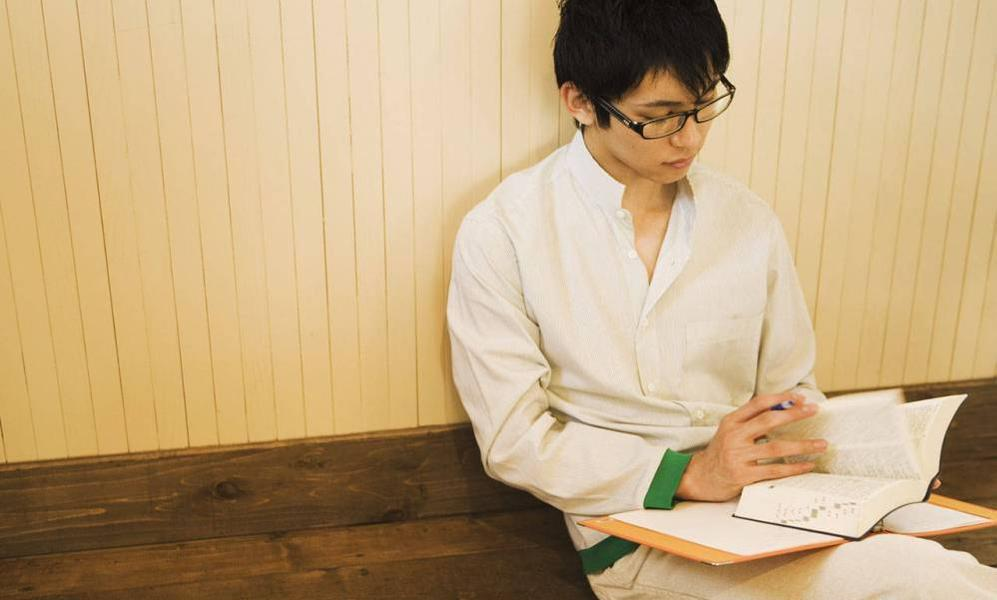person: (449, 1, 993, 600)
